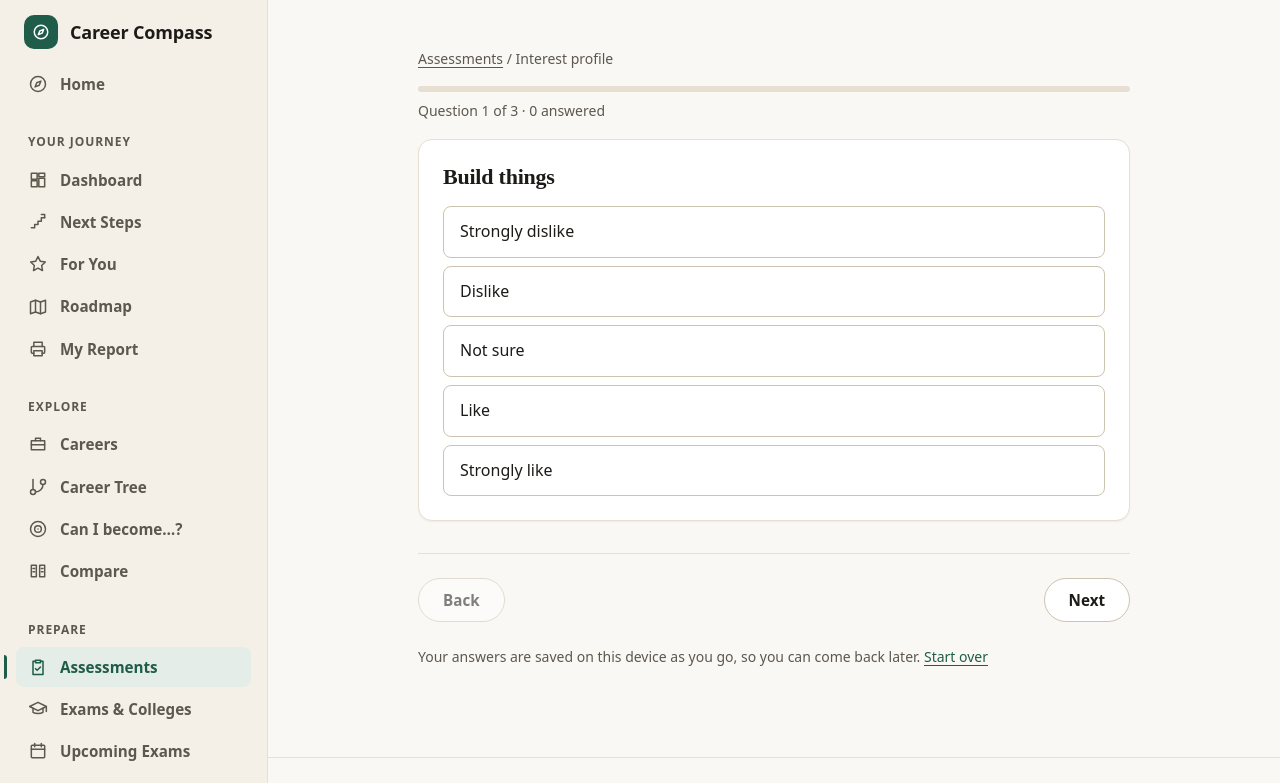
Test: Taking a test › answers every question and submits the ratings
Expected: the heading "Build things" is shown, [443,164,555,189]
Expected: the text "Question 1 of 3 · 0 answered" is shown, [418,101,605,120]
What coordinates should you click on to do the following:
click the radio button labelled "Strongly like"
I would click on:
 (774, 470)
Its box is [443,444,1105,496].
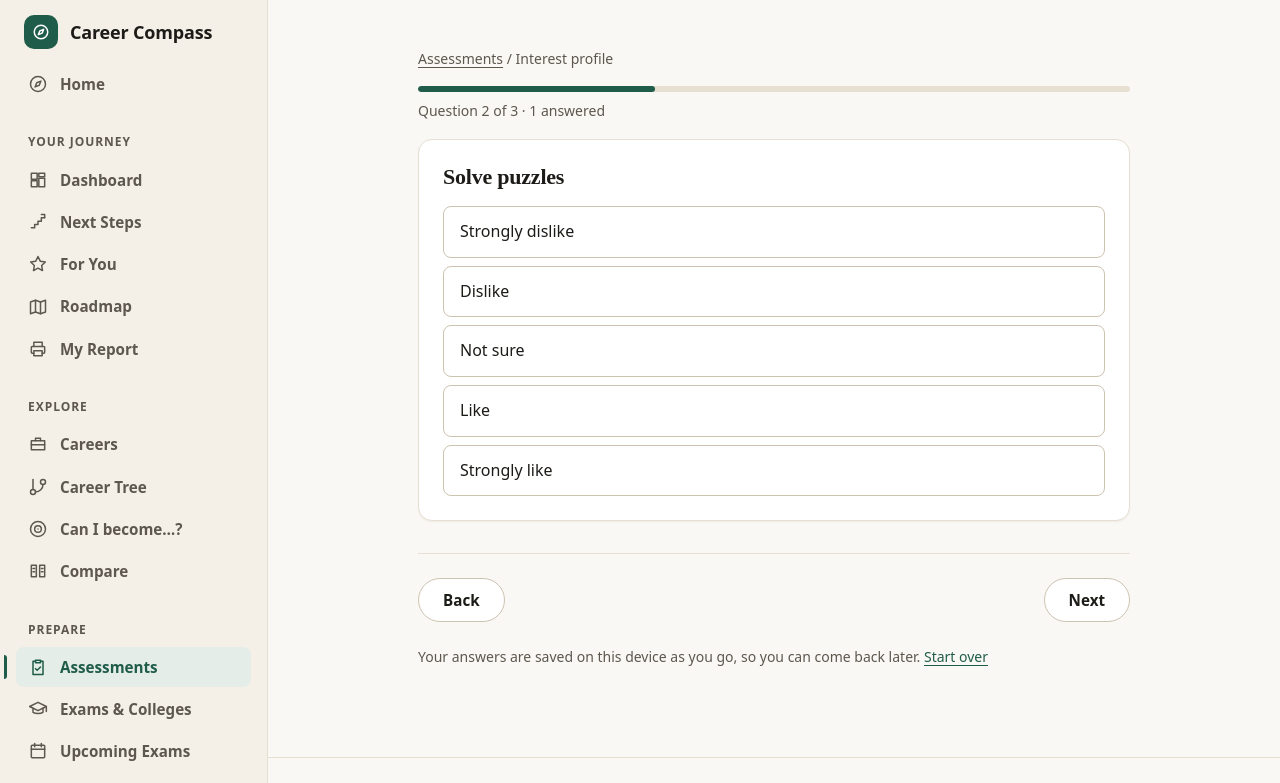
Now the heading "Solve puzzles" is shown, box [443,164,564,189]
What coordinates should you click on to do the following:
click the radio button labelled "Like"
I would click on:
 (774, 411)
Its box is [443,385,1105,437].
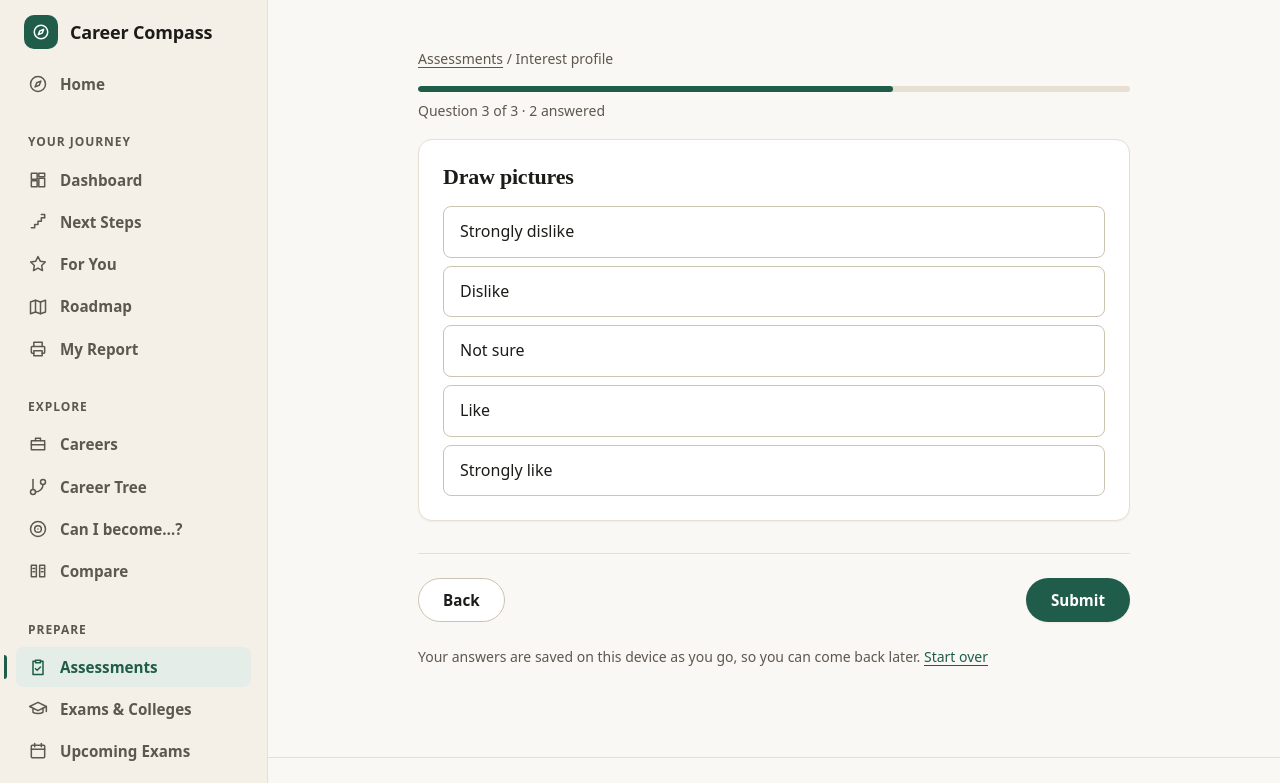
Now the heading "Draw pictures" is shown, box [443,164,574,189]
What coordinates should you click on to do the following:
click the radio button labelled "Strongly dislike"
I would click on:
 (774, 232)
Its box is [443,206,1105,258].
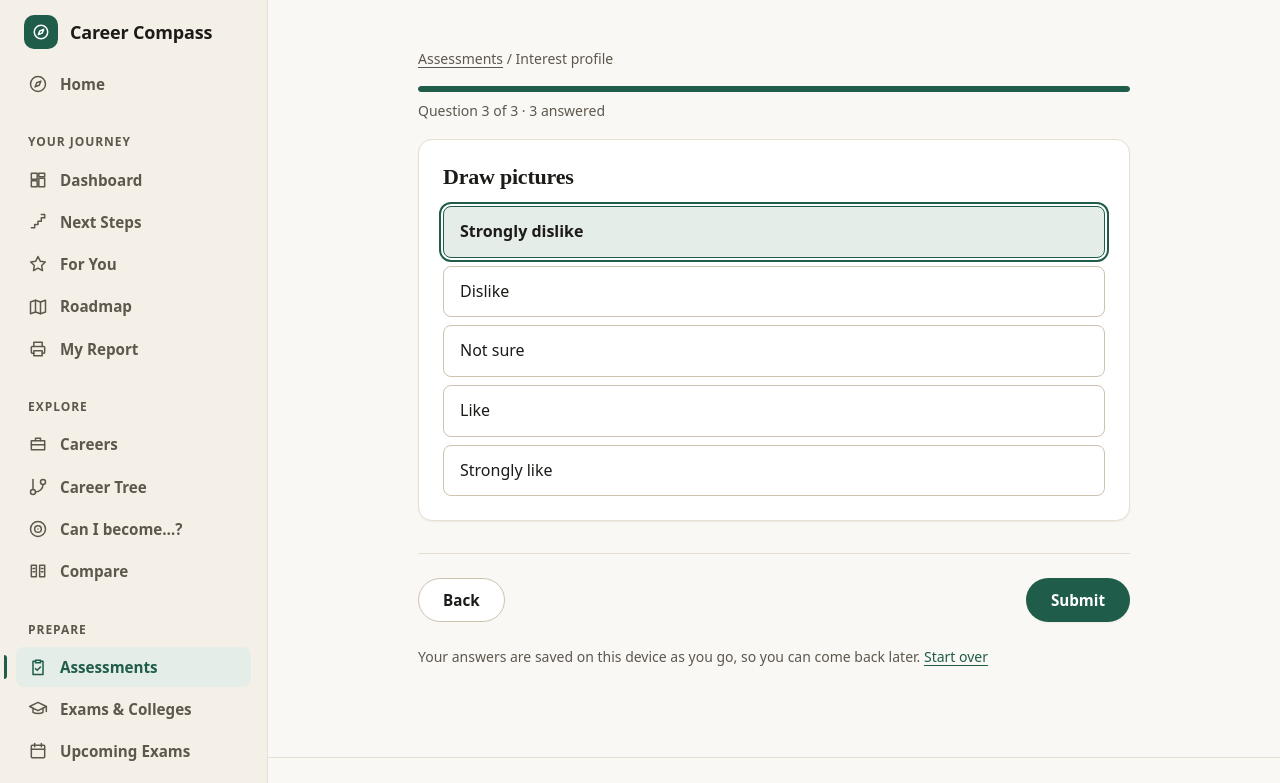
What coordinates should you click on to do the following:
click the button "Submit"
I would click on:
 (1078, 600)
Its box is [1026,578,1130,622].
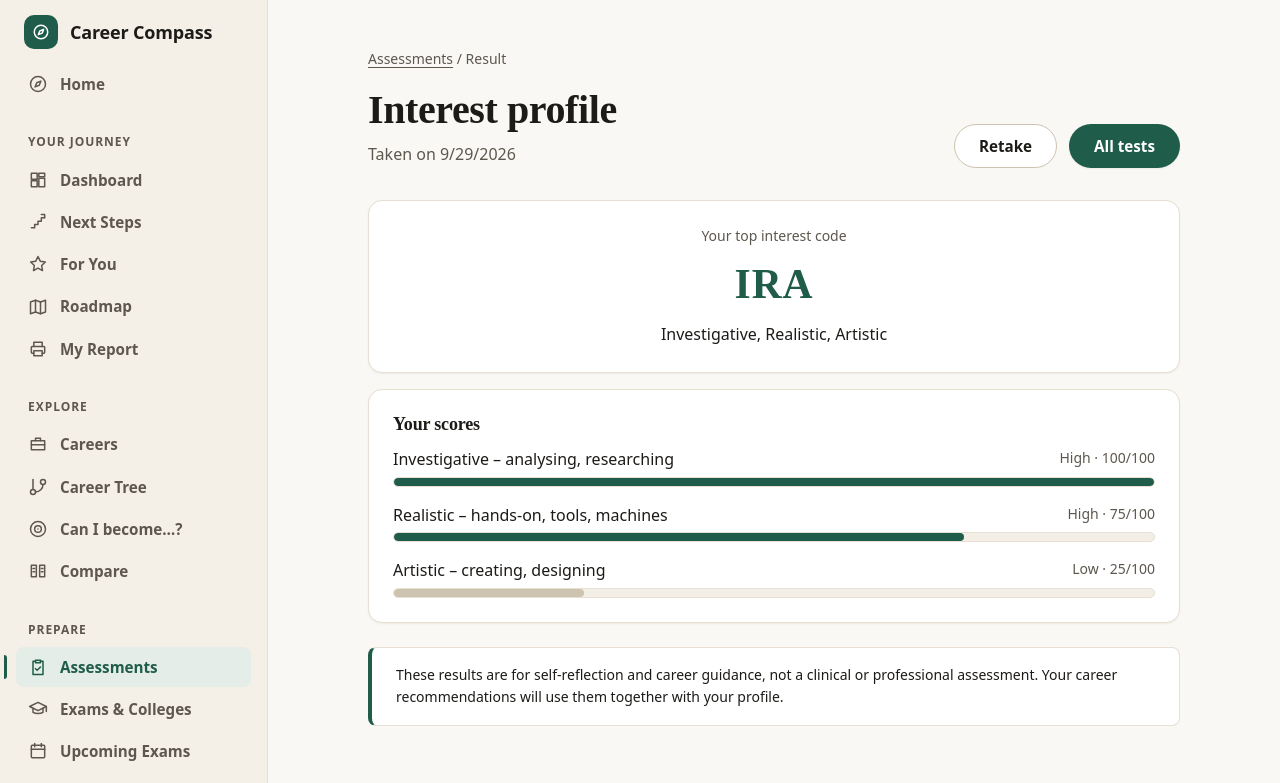
Now the text "IRA" is shown, box [735,261,813,307]
